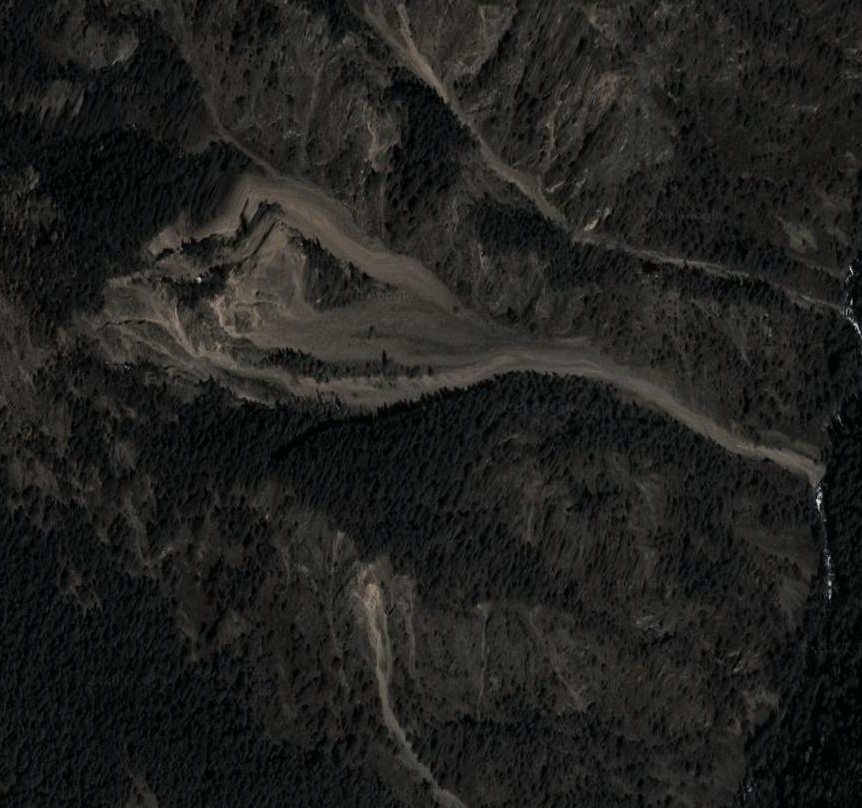slope: (107, 171, 815, 478), (355, 576, 427, 782)
